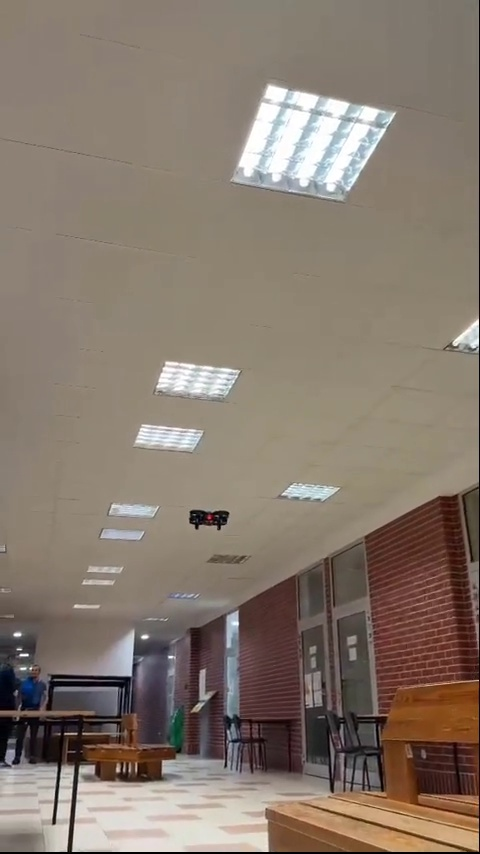drone: (186, 508, 234, 531)
no vest: (27, 661, 51, 711)
